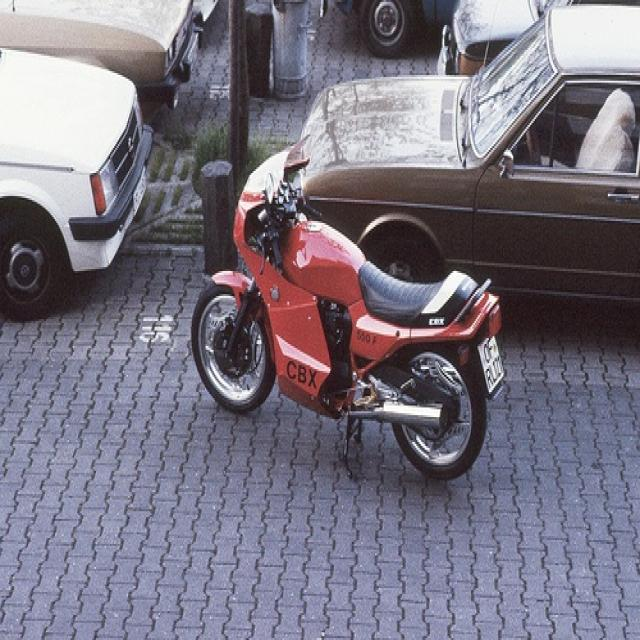car: (296, 4, 638, 315), (0, 48, 151, 317), (0, 0, 203, 115), (325, 0, 456, 54)
motorbike: (193, 142, 504, 488)
